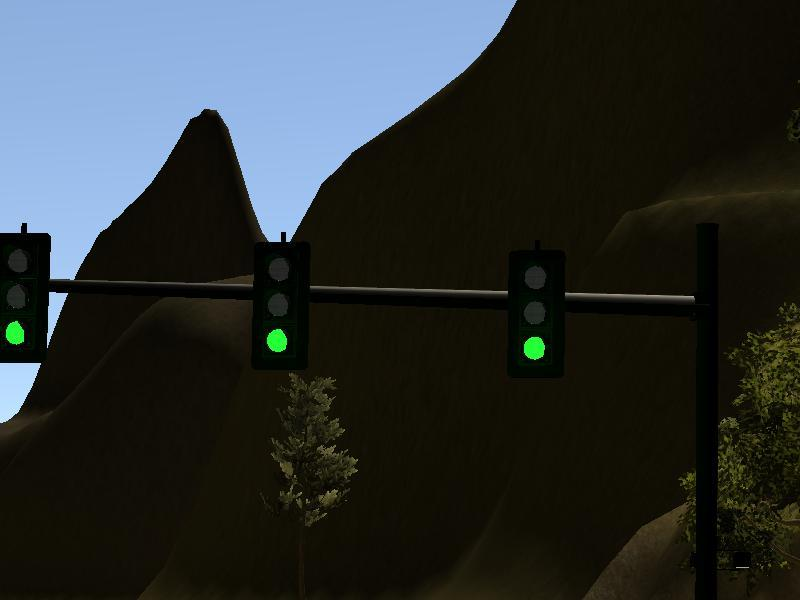Green: (256, 242, 306, 366), (509, 255, 557, 375), (2, 233, 44, 364)
